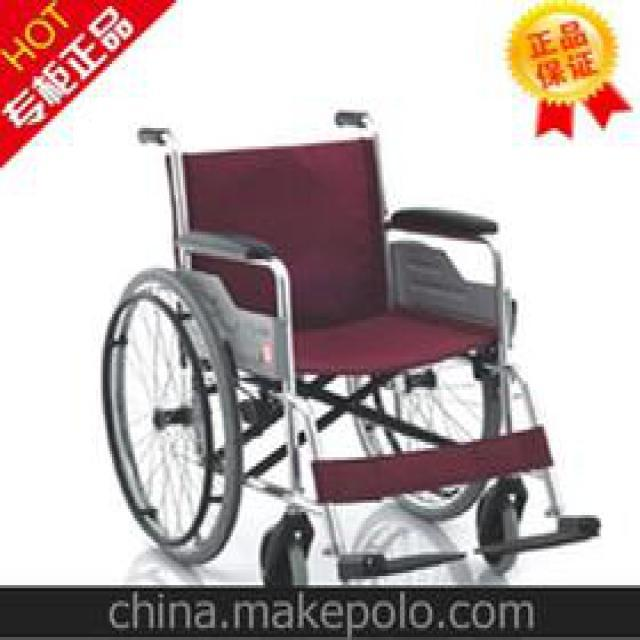wheelchair: (103, 103, 606, 580)
